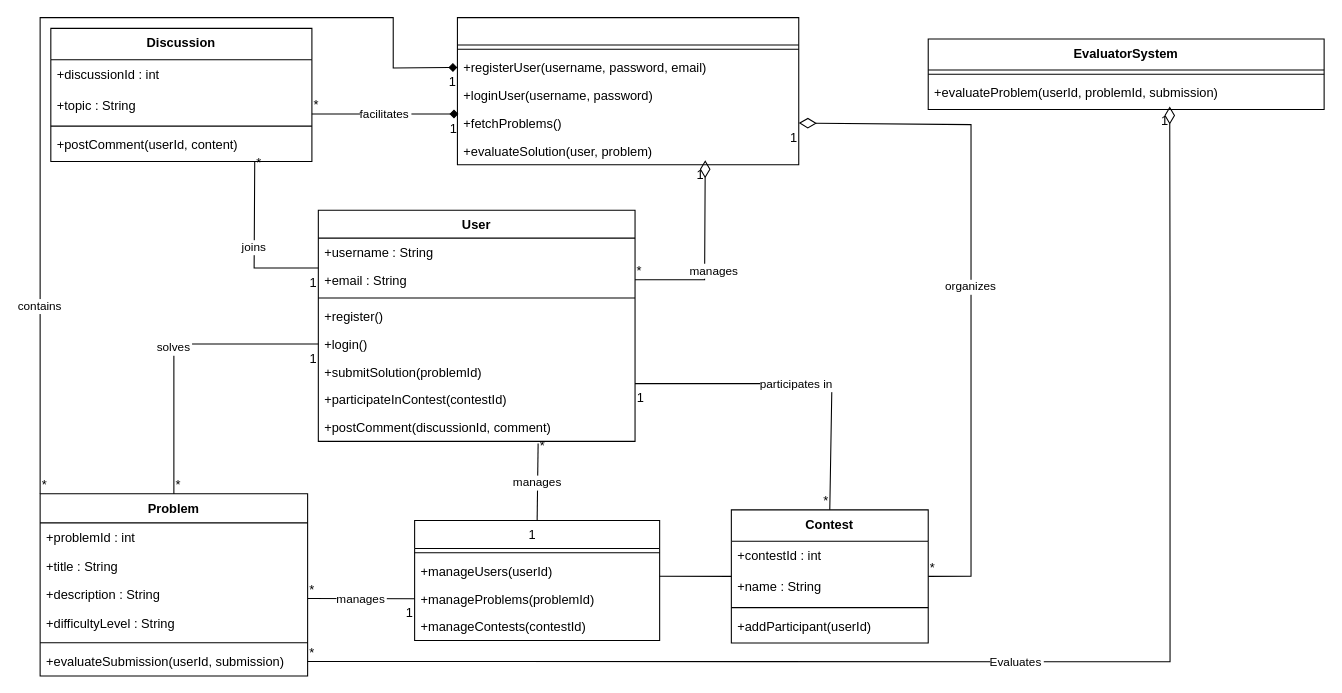
Some shapes in this 1342 by 693 pixel diagram are drawn without their labels. Here are the shapes that lost their labels. From the top down, the box of each, then its label:
(456, 17, 799, 165): AlgoArena
(414, 519, 660, 641): Admin
